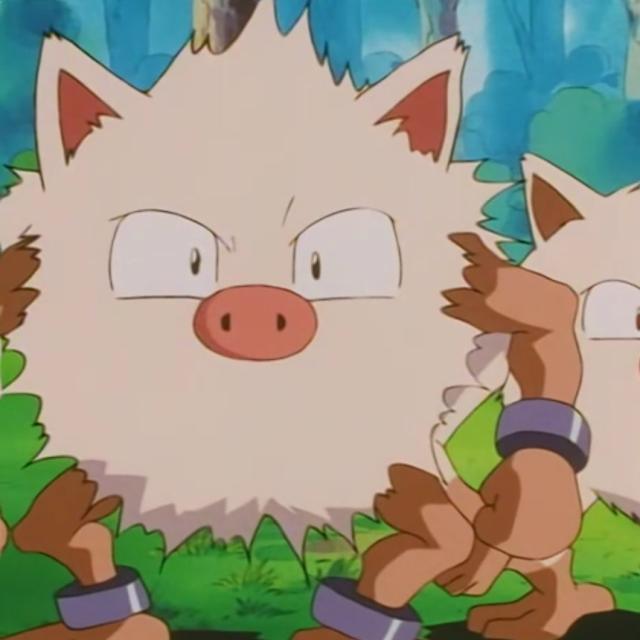Primeape: (16, 32, 588, 640)
